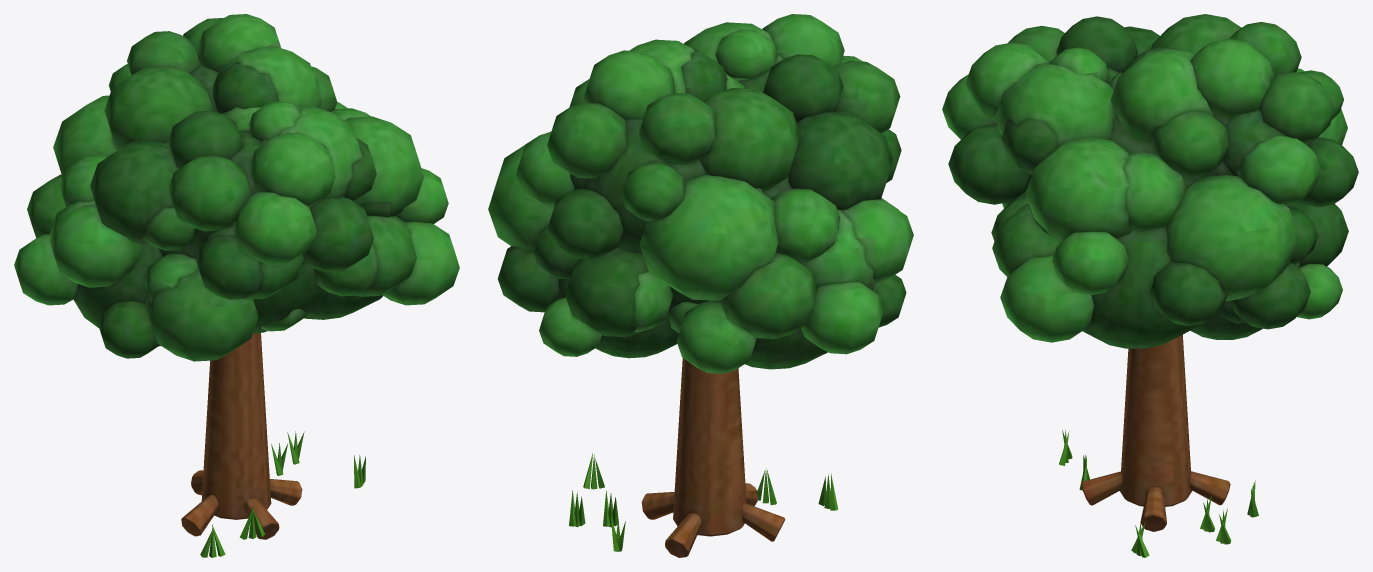
The model's file is damson_tree.glb.
The picture shows the model from 3 angles, left to right: view 1: azimuth 30°, elevation 25°; view 2: azimuth 150°, elevation 25°; view 3: azimuth 270°, elevation 25°; orthographic projection. The views are drawn at different scales.
Parts seen in each view (by area): view 1: crown, damson_tree; view 2: crown, damson_tree; view 3: crown, damson_tree.
Boxes of the visible parts, x1,y1,x2,y2 form: crown: (14, 14, 459, 361); damson_tree: (181, 333, 365, 557); crown: (488, 14, 913, 373); damson_tree: (569, 358, 838, 557); crown: (942, 14, 1358, 348); damson_tree: (1059, 334, 1258, 557).
Size of the model in its own units: 1.1 by 1.31 by 1.03.
Materials: 1 (1 with a texture image).
